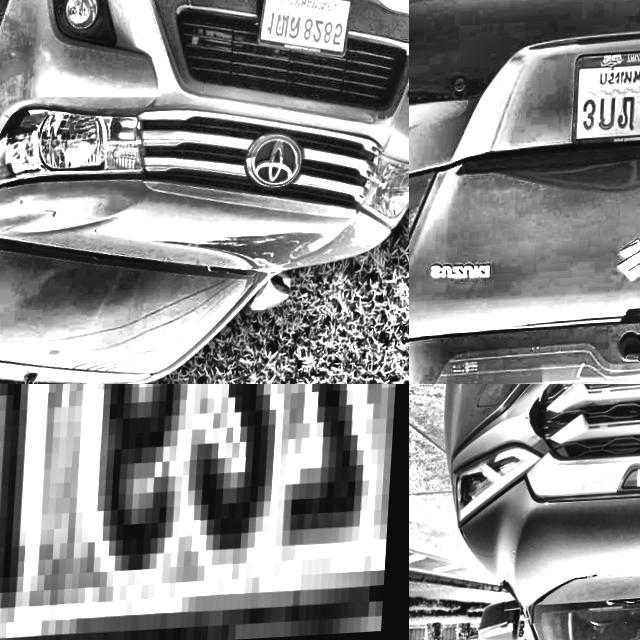license-plate: (0, 384, 409, 640), (256, 0, 360, 68), (574, 49, 640, 156)
